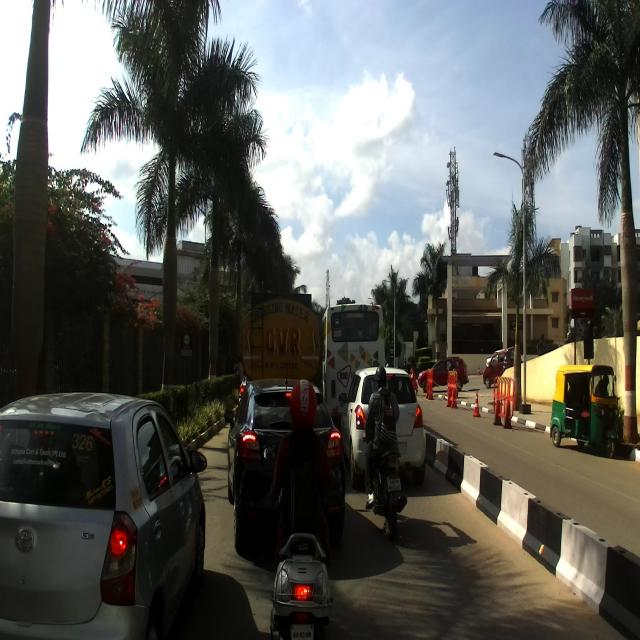autorickshaw: (550, 360, 618, 459)
car: (0, 388, 207, 639), (224, 366, 346, 568), (338, 365, 426, 490)
motorcycle: (357, 424, 408, 543)
scooter: (260, 444, 338, 639)
